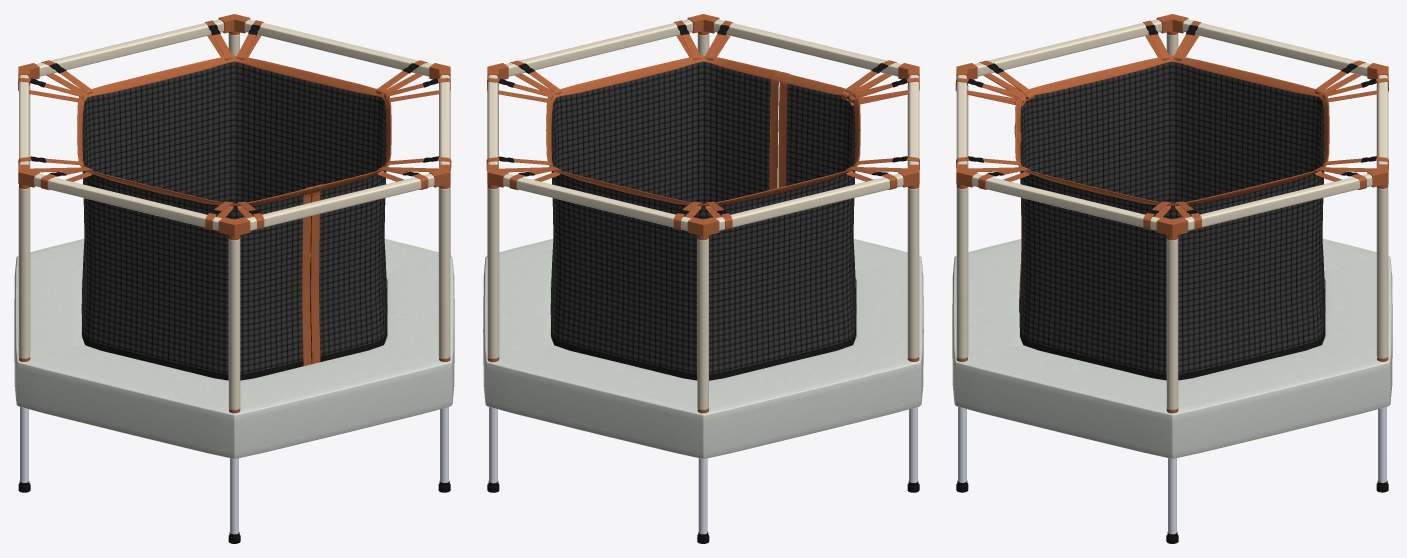
File: MEGA_PACK_kid__kid-288079_frame_48inch.glb
3 renders of one model, left to right at view 1: azimuth 30°, elevation 25°; view 2: azimuth 150°, elevation 25°; view 3: azimuth 270°, elevation 25°, orthographic.
Parts seen in each view (by area): view 1: kid-288079_frame_48inch; view 2: kid-288079_frame_48inch; view 3: kid-288079_frame_48inch.
Part boxes in pixels (x1,y1,x2,y2): kid-288079_frame_48inch: (14,14,454,543); kid-288079_frame_48inch: (483,14,923,543); kid-288079_frame_48inch: (952,14,1392,543).
Bounding box in the file's own units: 1.24 × 0.8705 × 1.09.
Materials: 1 (1 with a texture image).
